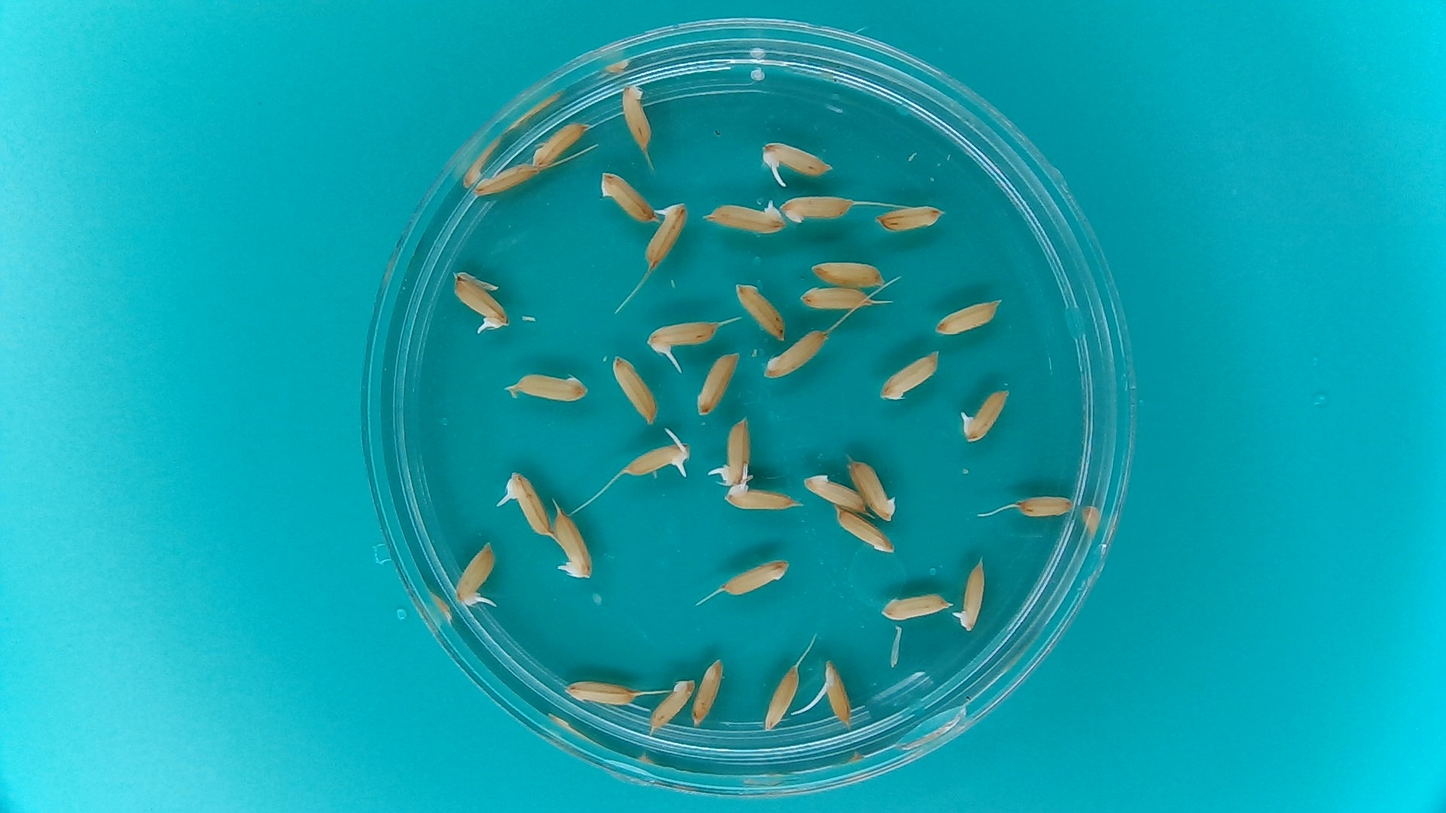no: (760, 327, 831, 385), (609, 352, 658, 427), (876, 347, 941, 403), (845, 455, 898, 522), (597, 169, 660, 224), (502, 366, 591, 403), (831, 505, 897, 554), (734, 279, 786, 341), (530, 117, 590, 170), (761, 662, 804, 732), (932, 295, 1005, 336), (694, 350, 740, 415), (800, 470, 868, 513), (718, 556, 791, 596), (471, 157, 541, 198), (647, 676, 696, 734), (690, 654, 727, 727), (561, 675, 640, 709), (618, 80, 654, 154), (779, 192, 856, 225), (880, 589, 954, 622), (810, 257, 886, 288), (873, 202, 946, 233), (798, 284, 873, 311), (1013, 491, 1076, 520)
yes: (449, 267, 511, 333), (496, 467, 554, 537), (643, 317, 722, 364), (642, 199, 691, 272), (452, 535, 499, 611), (700, 196, 787, 236), (550, 505, 595, 582), (956, 383, 1013, 443), (758, 139, 836, 182), (620, 434, 692, 479), (708, 414, 752, 487), (950, 554, 988, 635), (721, 478, 804, 513), (816, 656, 855, 728)
